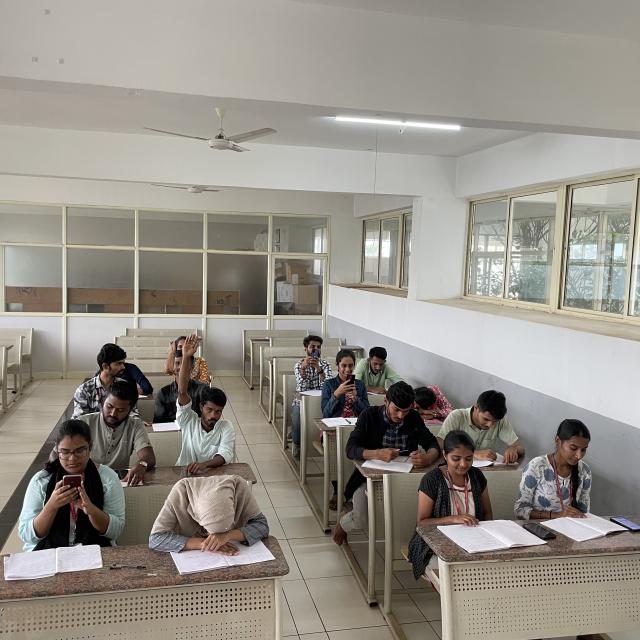Hand Rising: (171, 330, 235, 458)
Reading: (428, 430, 530, 550), (527, 420, 618, 539), (452, 387, 526, 466), (355, 345, 401, 397)
Sleeping: (155, 469, 271, 549), (411, 382, 459, 422)
Using Phone: (23, 419, 124, 539), (320, 348, 368, 414), (295, 335, 336, 394)
Writing: (348, 378, 434, 469)
